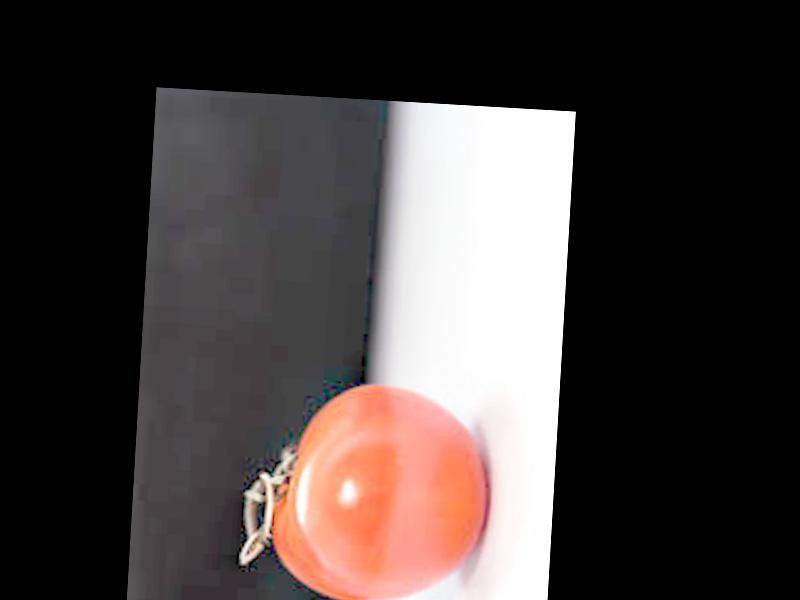Tomato: (267, 377, 493, 600)
